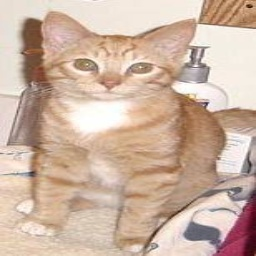cat: (23, 9, 233, 256)
